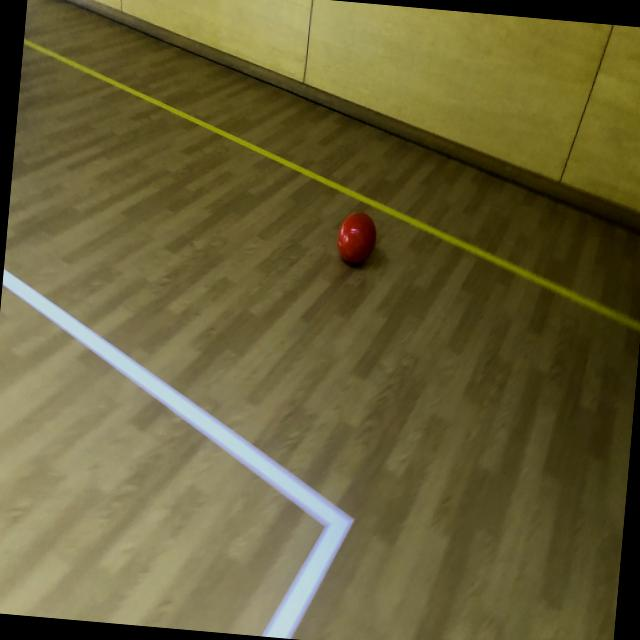red_ball: (335, 207, 378, 267)
